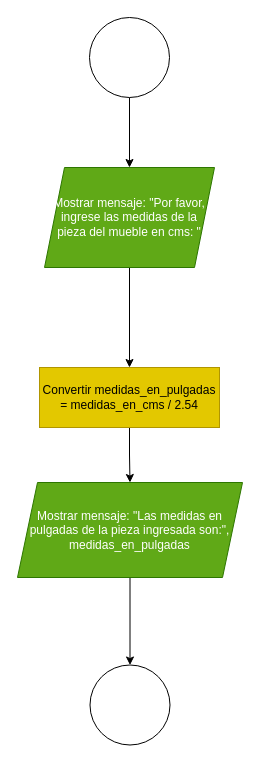
This 260x763 diagram has some shape labels left out. The shapes that lost their labels are listed below. From the top down, each one's centre as x and y in pixels, then its label:
point (129, 57): Inicio
point (129, 704): Fin
